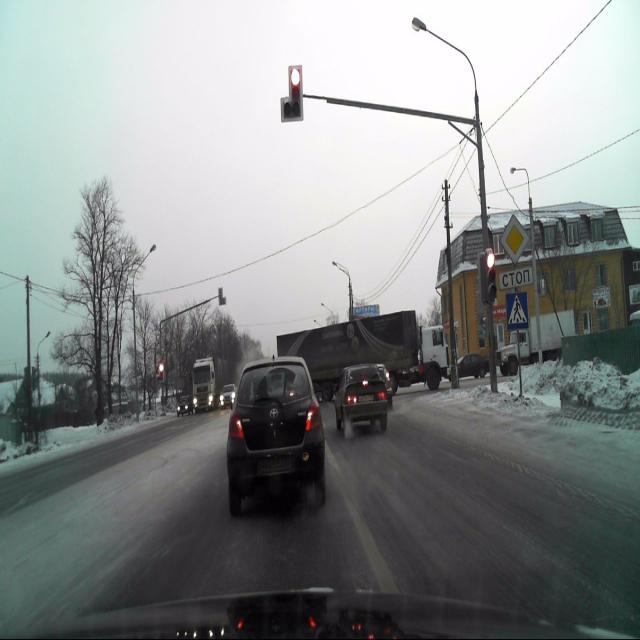object: (518, 333, 524, 396)
road sign: (500, 214, 528, 264), (505, 292, 528, 330), (498, 267, 532, 289)
